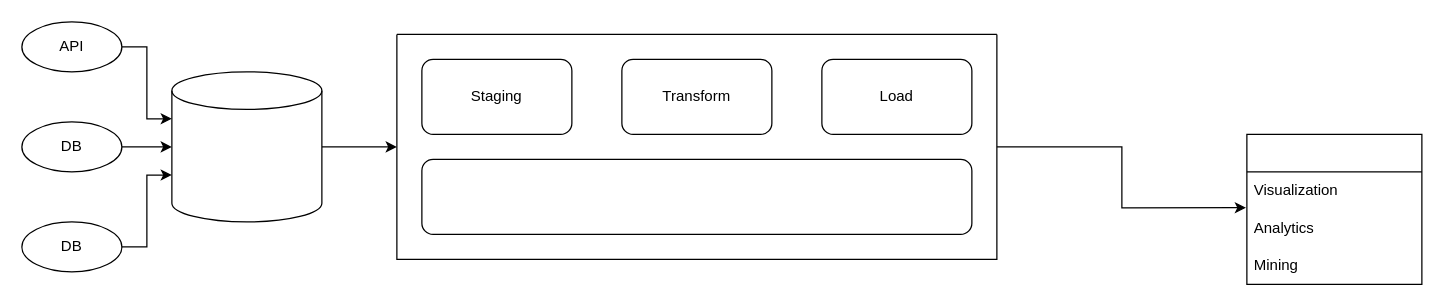
The diagram is 1444 pixels wide and 306 high, and some of its shapes have lost their labels. The box of each missing label's shape, as (x1, y1, x2, y2) in pixels:
Mart: (1246, 133, 1422, 284)
Source: (171, 71, 322, 222)
Storage: (421, 158, 972, 234)
